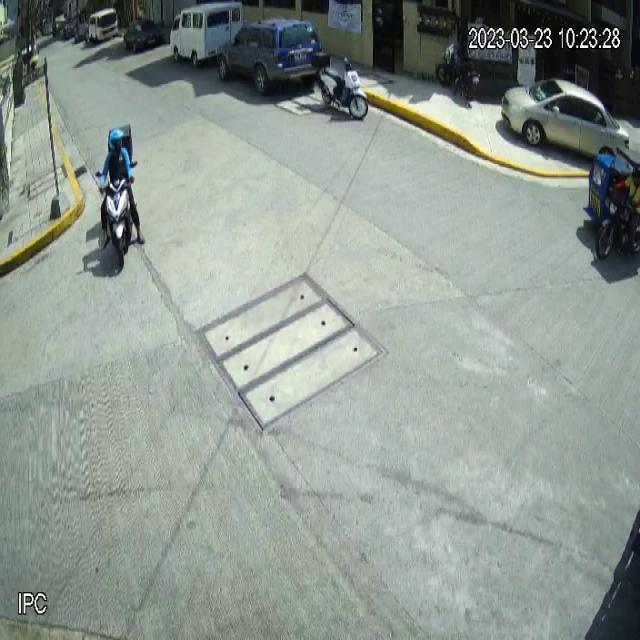Car: (501, 75, 632, 172), (216, 16, 323, 96)
Motorcycle: (95, 156, 137, 270), (311, 48, 369, 120)
Tricycle: (581, 144, 640, 261)
Van: (169, 0, 242, 69)
